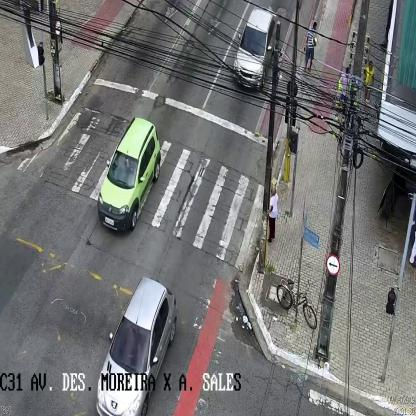bicycle: (277, 278, 317, 330)
car: (96, 276, 176, 413), (97, 116, 161, 233), (233, 7, 276, 92)
person: (303, 20, 318, 71), (268, 186, 278, 242), (339, 64, 351, 110), (364, 60, 374, 105)
